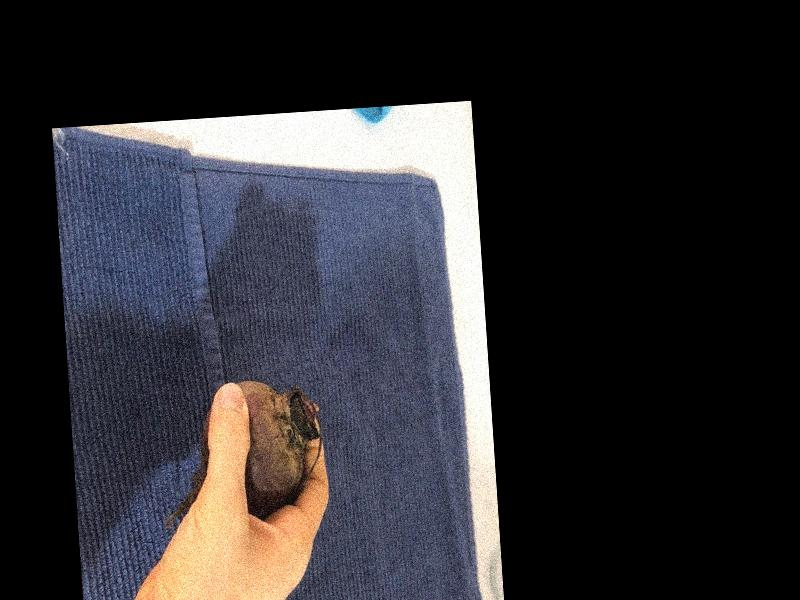Beet: (154, 375, 325, 522)
